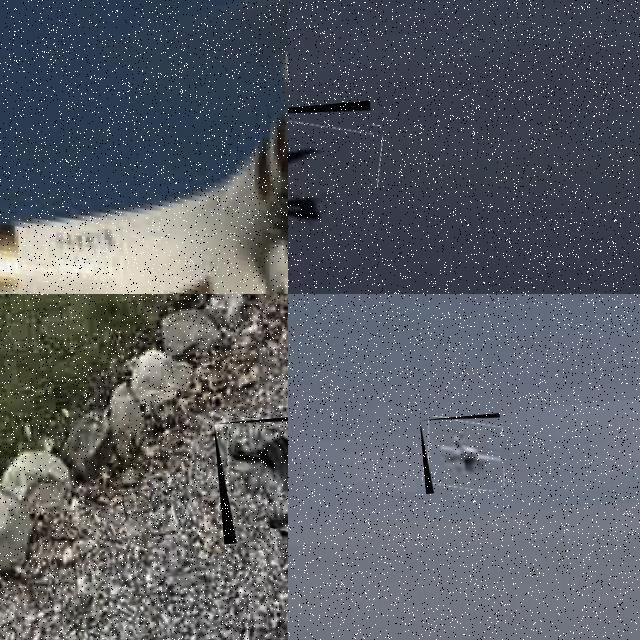drone: (0, 0, 288, 294), (288, 100, 390, 294), (213, 409, 288, 543), (420, 412, 506, 493)
